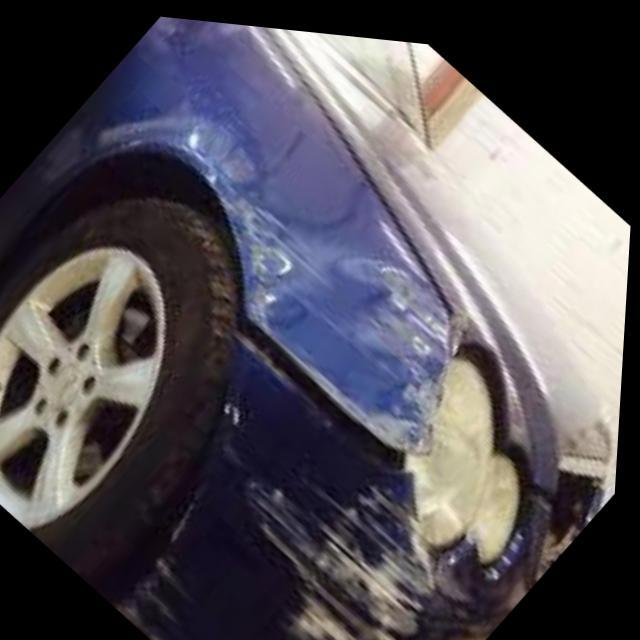rub: (182, 146, 480, 640), (127, 504, 210, 637)
